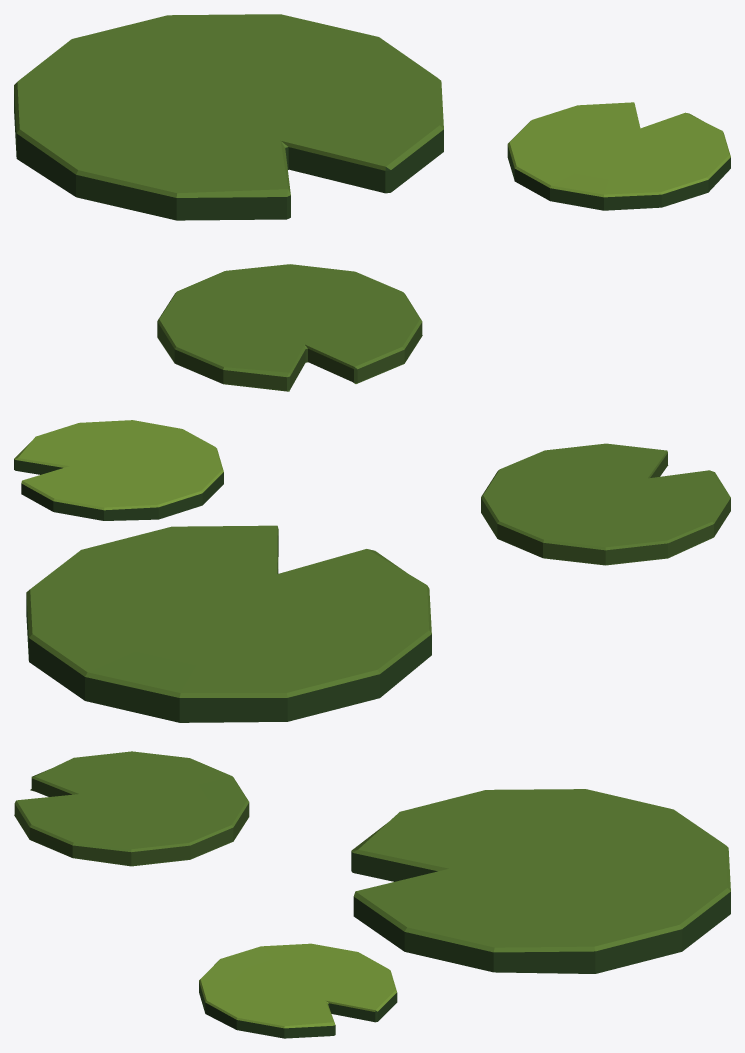
File: Nénuphare_V1fbx.fbx
3 views of the same model, one above another, from view 1: azimuth 30°, elevation 25°; view 2: azimuth 150°, elevation 25°; view 3: azimuth 270°, elevation 25° (orthographic). The views are drawn at different scales.
Visible parts, largest first — view 1: Cylinder.001; view 2: Cylinder.001; view 3: Cylinder.001.
Part boxes in pixels (x1=…): Cylinder.001: x1=14, y1=14, x2=730, y2=391; Cylinder.001: x1=14, y1=420, x2=730, y2=722; Cylinder.001: x1=14, y1=751, x2=730, y2=1038.
Bounding box in the file's own units: 331 × 14.98 × 365.
